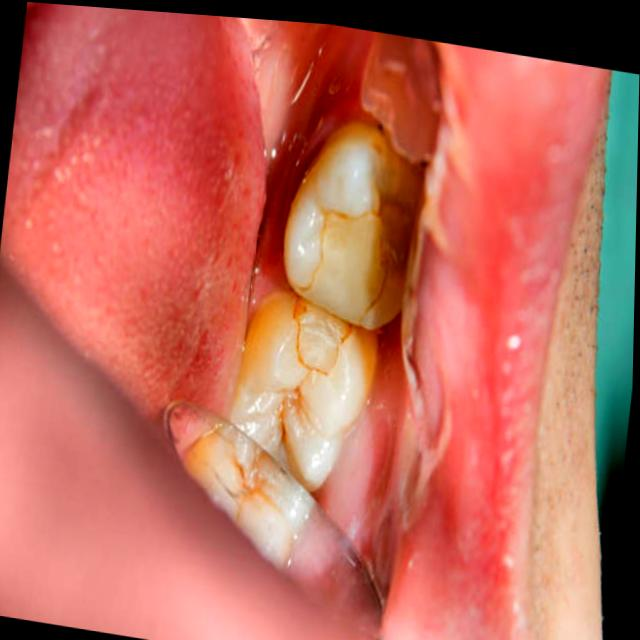cariess: (232, 198, 390, 490)
